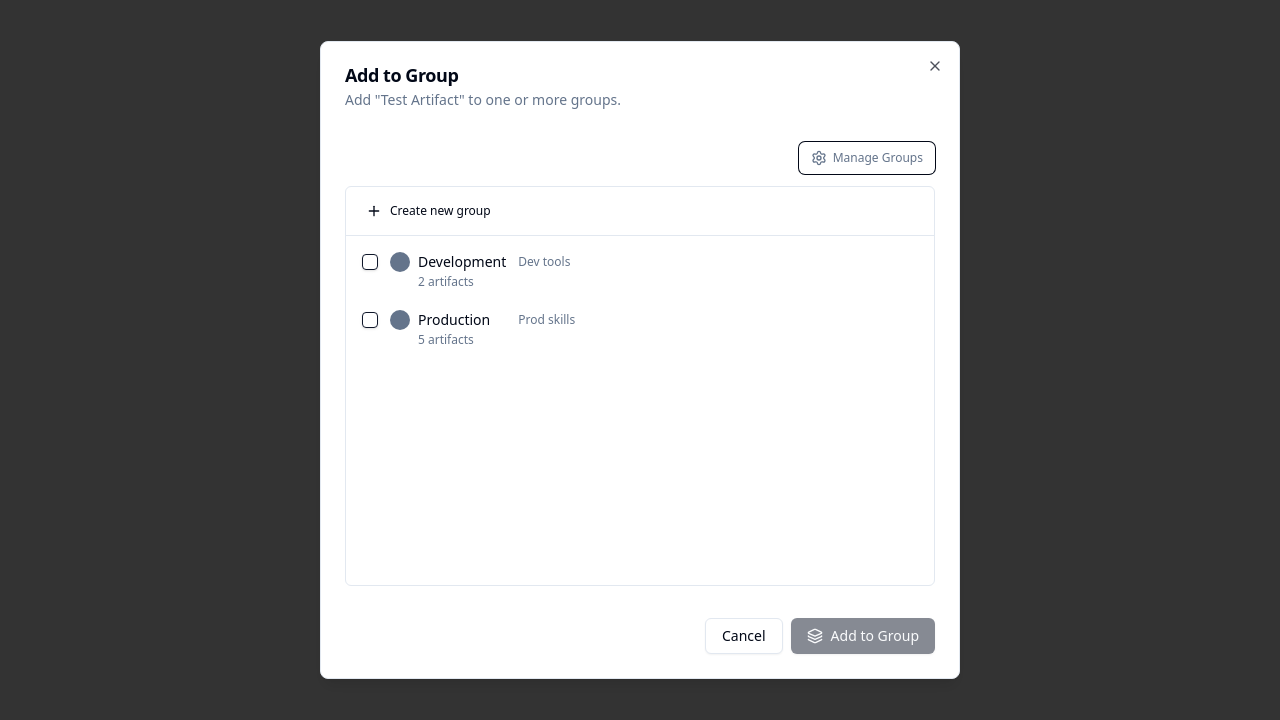
Test: AddToGroupDialog › Groups Selection Step › enables Add to Group button when groups are selected
The width and height of the screenshot is (1280, 720).
Check: the button "Add to Group" is disabled, box 791,618 -> 935,654
# Select a group using getAllByRole instead of getByRole with empty name
What coordinates should you click on to do the following:
click the checkbox next to "Development"
I would click on:
 (370, 262)
Its box is 362,254 -> 378,270.
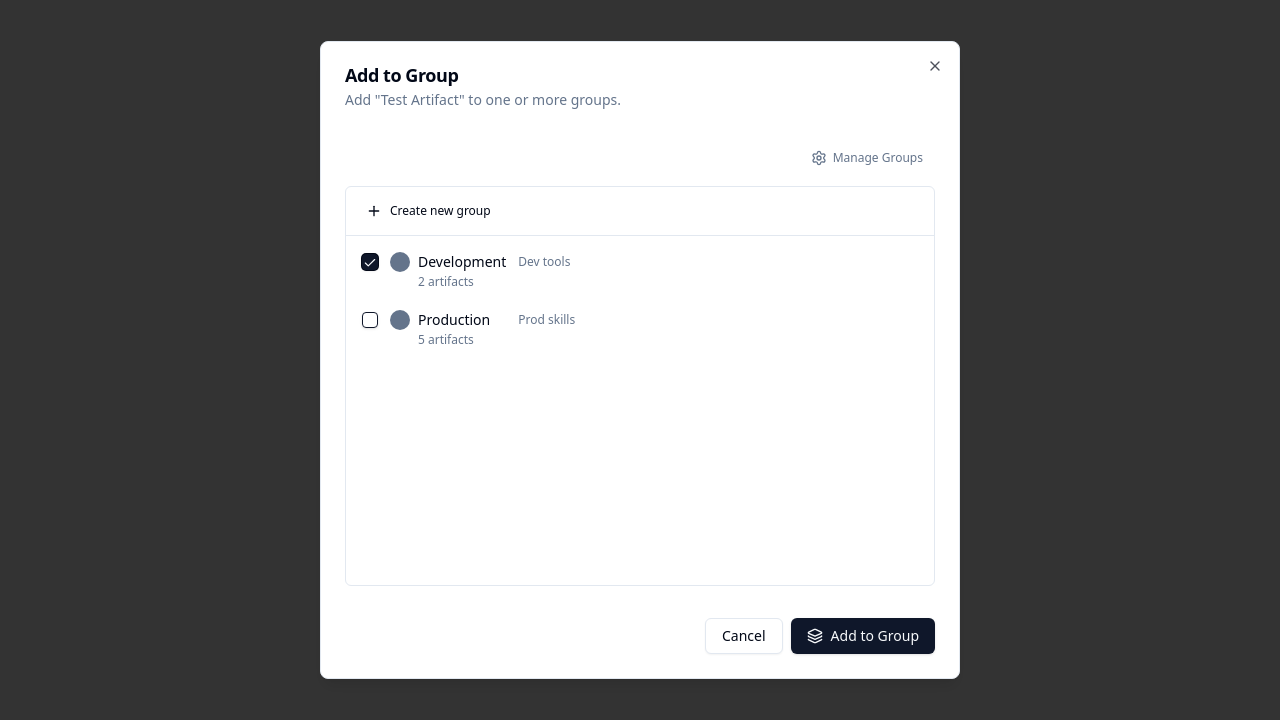
Check: the button "Add to Group" is enabled, box 791,618 -> 935,654
